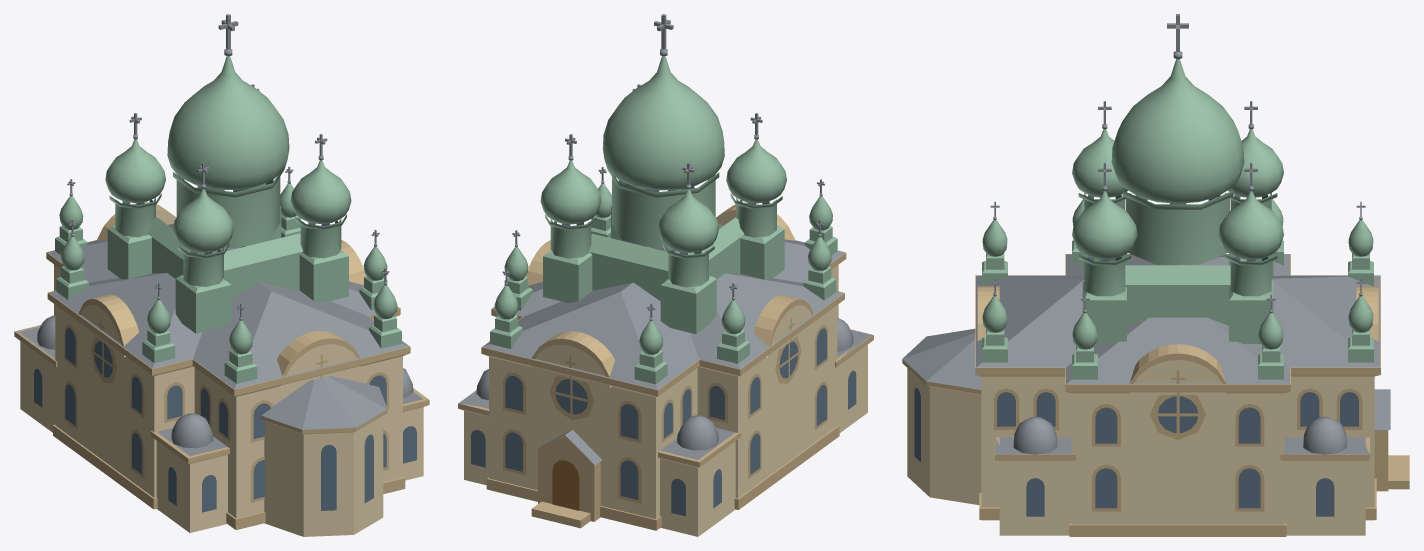
Rendered from cle-st-theodosius-cathedral.glb.
3 views of the same model, side by side, from view 1: azimuth 30°, elevation 25°; view 2: azimuth 150°, elevation 25°; view 3: azimuth 270°, elevation 25° (orthographic). The views are drawn at different scales.
Visible parts, largest first — view 1: St. Theodosius Orthodox Cathedral; view 2: St. Theodosius Orthodox Cathedral; view 3: St. Theodosius Orthodox Cathedral.
Boxes of the visible parts, box(x1,y1,x2,y2) form: St. Theodosius Orthodox Cathedral: box(14, 14, 429, 536); St. Theodosius Orthodox Cathedral: box(458, 14, 873, 536); St. Theodosius Orthodox Cathedral: box(902, 14, 1409, 536).
Size of the model in its own units: 20.3 by 33.4 by 33.29.
